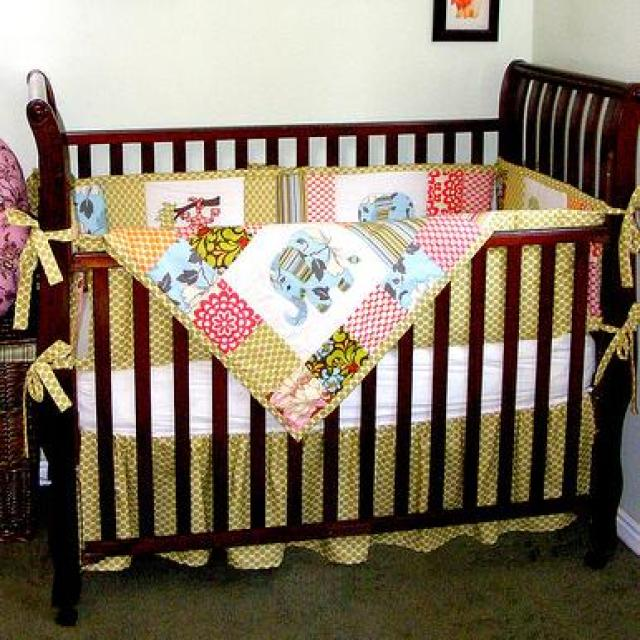bed: (24, 57, 640, 628)
